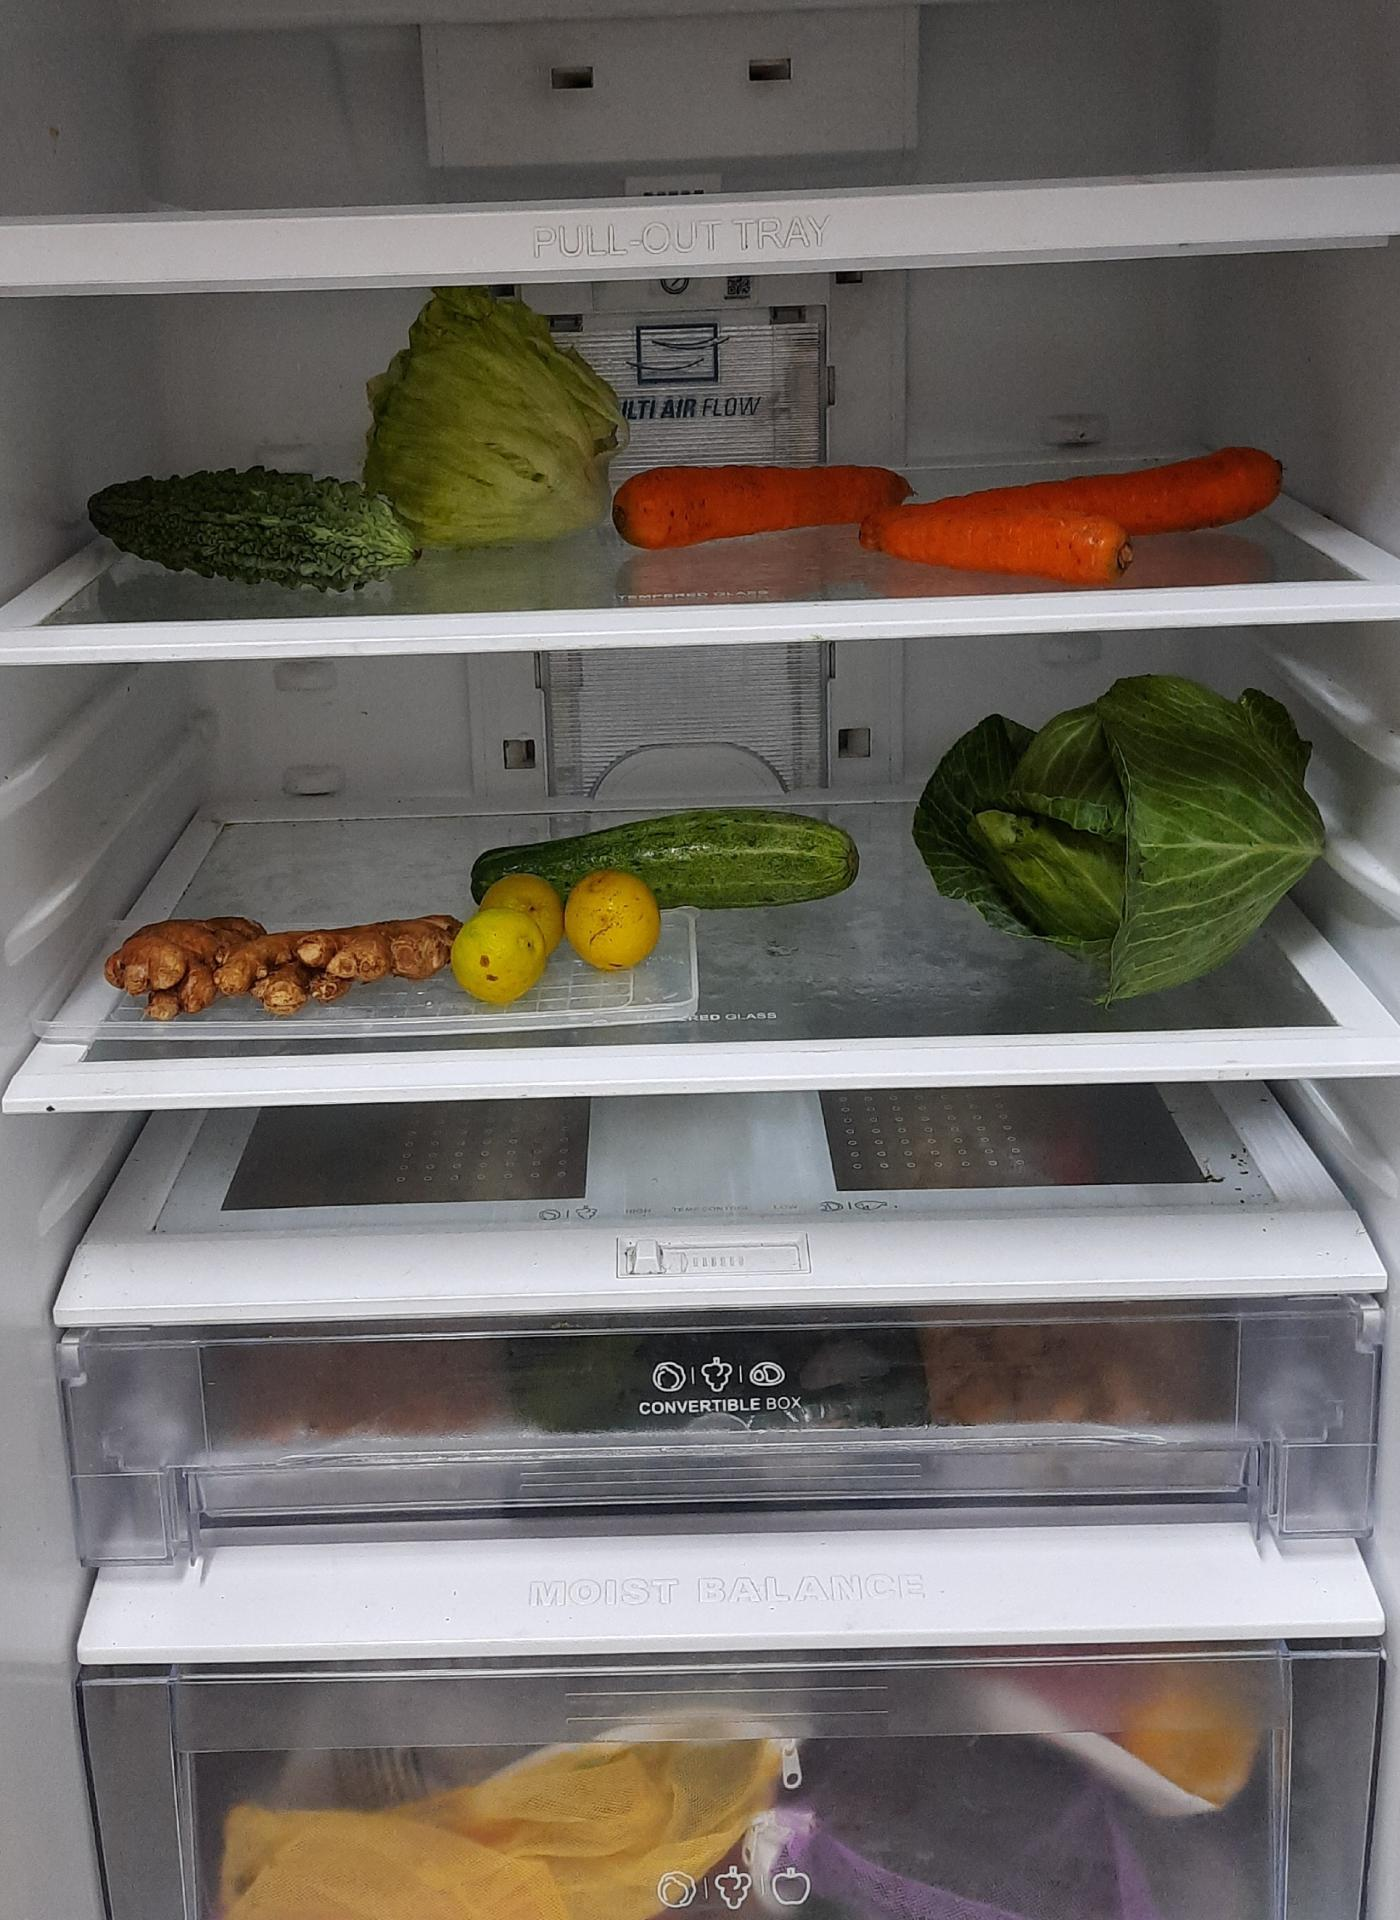bitter gourd: (92, 474, 416, 593)
cabbage: (914, 677, 1330, 1009)
carrots: (613, 453, 1285, 583)
cucumber: (474, 808, 860, 915)
ginger: (91, 912, 468, 1024)
lemon: (456, 866, 668, 997)
lettuce: (374, 292, 631, 555)
